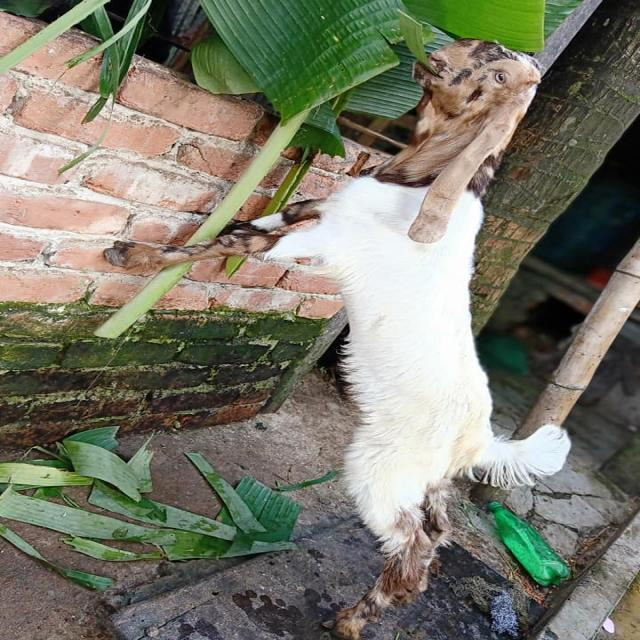Goat: (102, 36, 572, 638)
